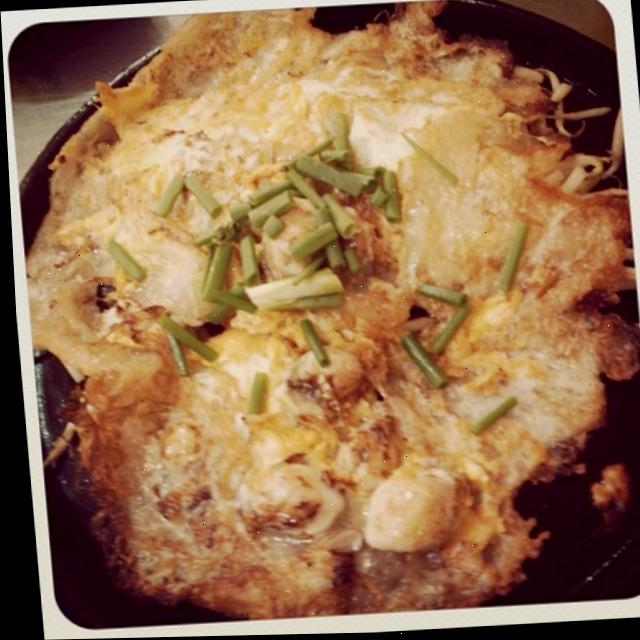炸货点心: (15, 6, 639, 620)
蛋糕甜品: (15, 6, 639, 620)
